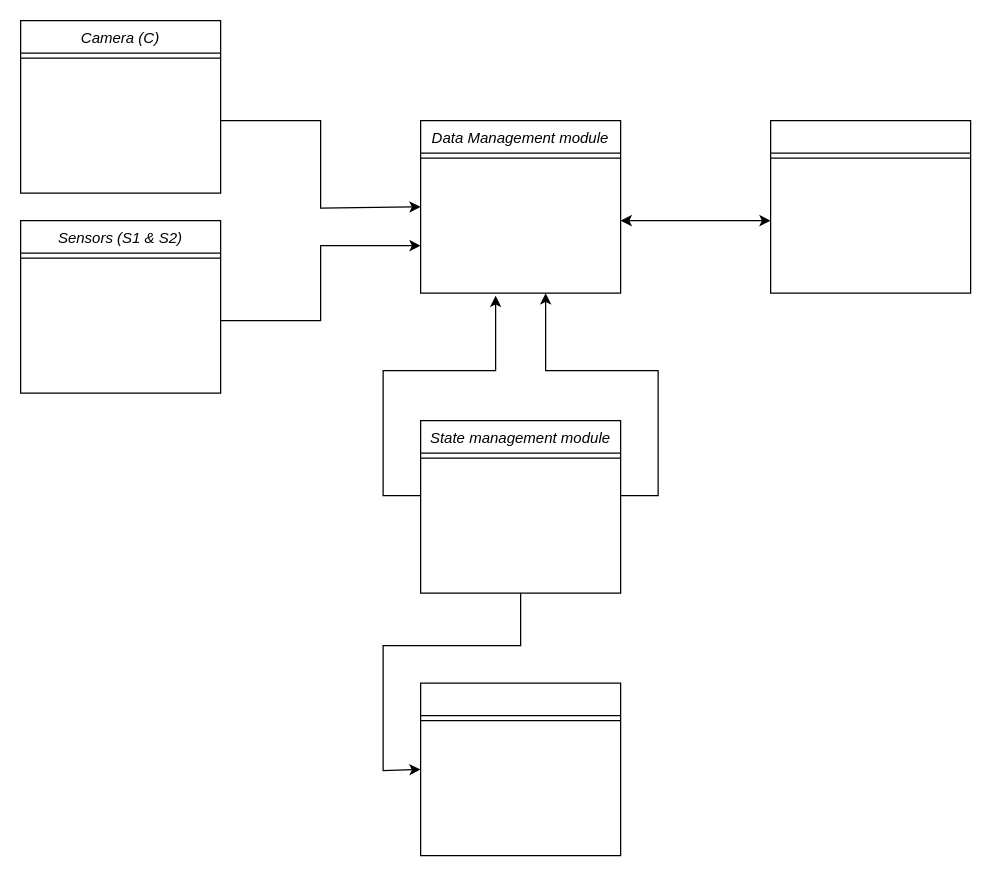
The diagram is 991 pixels wide and 876 high, and some of its shapes have lost their labels. The centre of each missing label's shape, as x and y in pixels:
"AlarmController" belongs at point 520,769.
"Intrusion Detection module" belongs at point 870,206.
